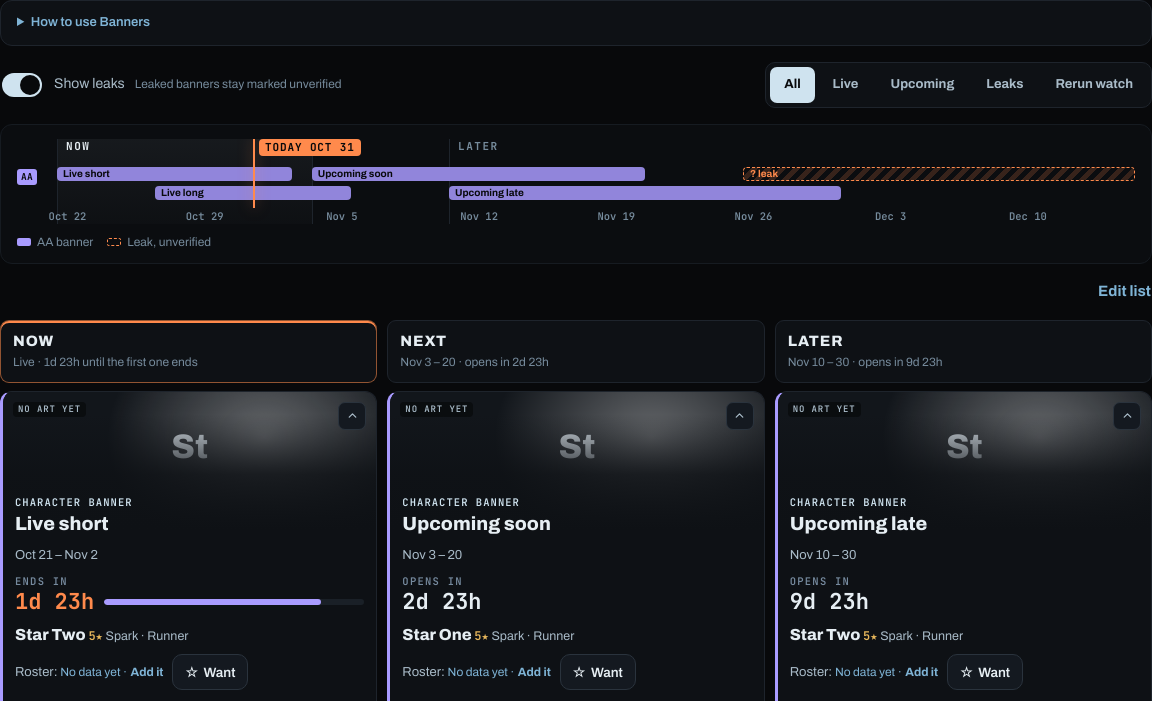
Test: Banners screen › shows leaks as unverified with their source, and the switch hides them and is remembered
Click the switch named "Show leaks". click: (22, 84)
box: [2, 72, 42, 96]
(page scrolled)
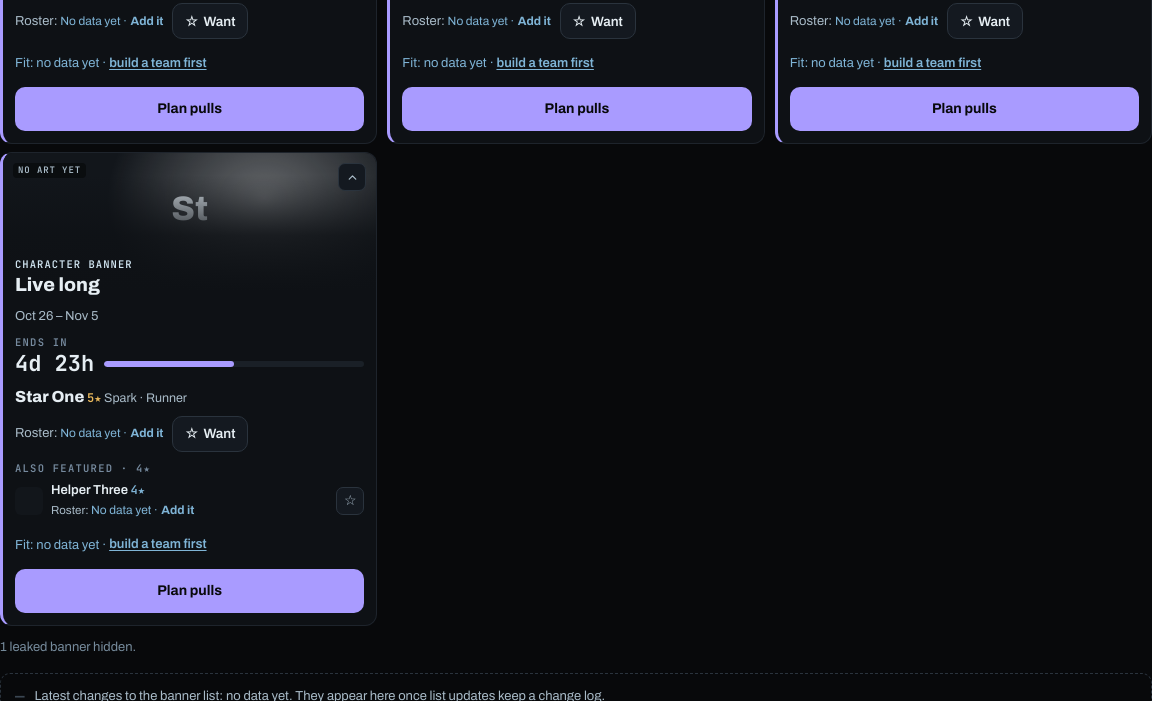
Expected: the text "1 leaked banner hidden." is shown, [0, 640, 136, 654]
